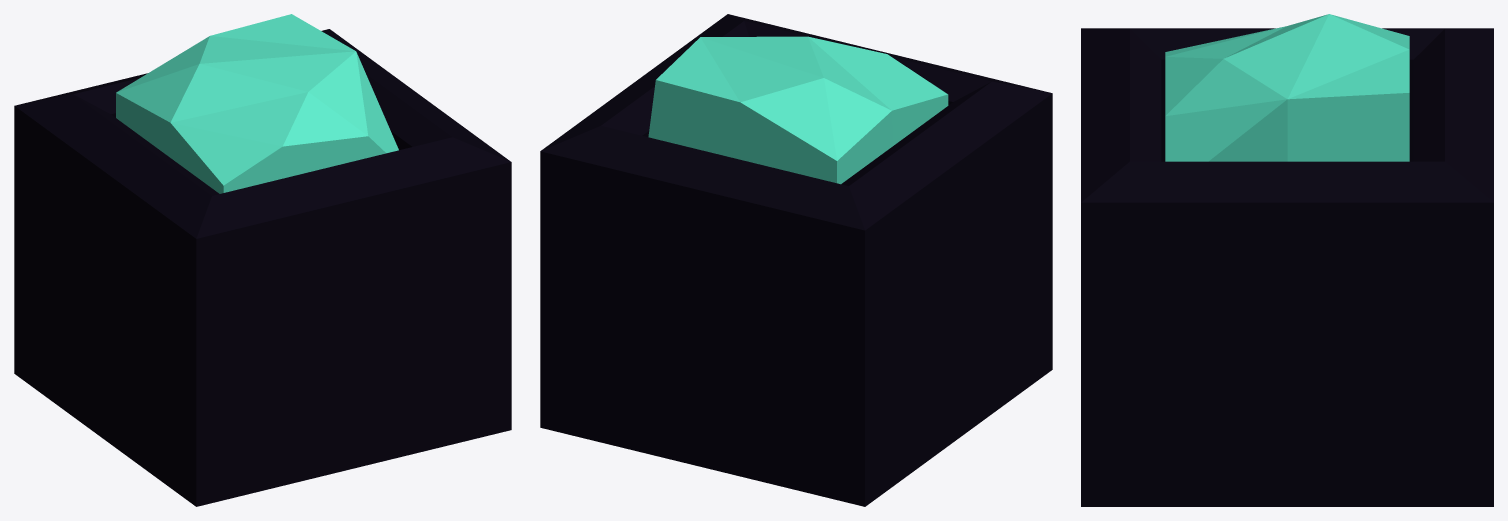
Rendered from glowy_box6.gltf.
The picture shows the model from 3 angles, left to right: view 1: azimuth 30°, elevation 25°; view 2: azimuth 150°, elevation 25°; view 3: azimuth 270°, elevation 25°; orthographic projection. The views are drawn at different scales.
Visible parts, largest first — view 1: Cube; view 2: Cube; view 3: Cube.
Boxes of the visible parts, x1,y1,x2,y2 form: Cube: [14, 14, 511, 506]; Cube: [540, 14, 1052, 506]; Cube: [1081, 14, 1493, 506].
Size of the model in its own units: 1 by 1.02 by 1.
